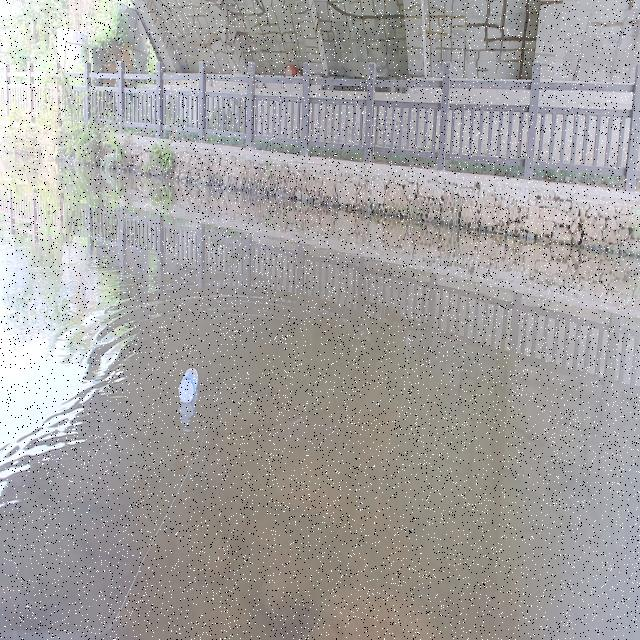Bottle: (177, 357, 199, 403)
